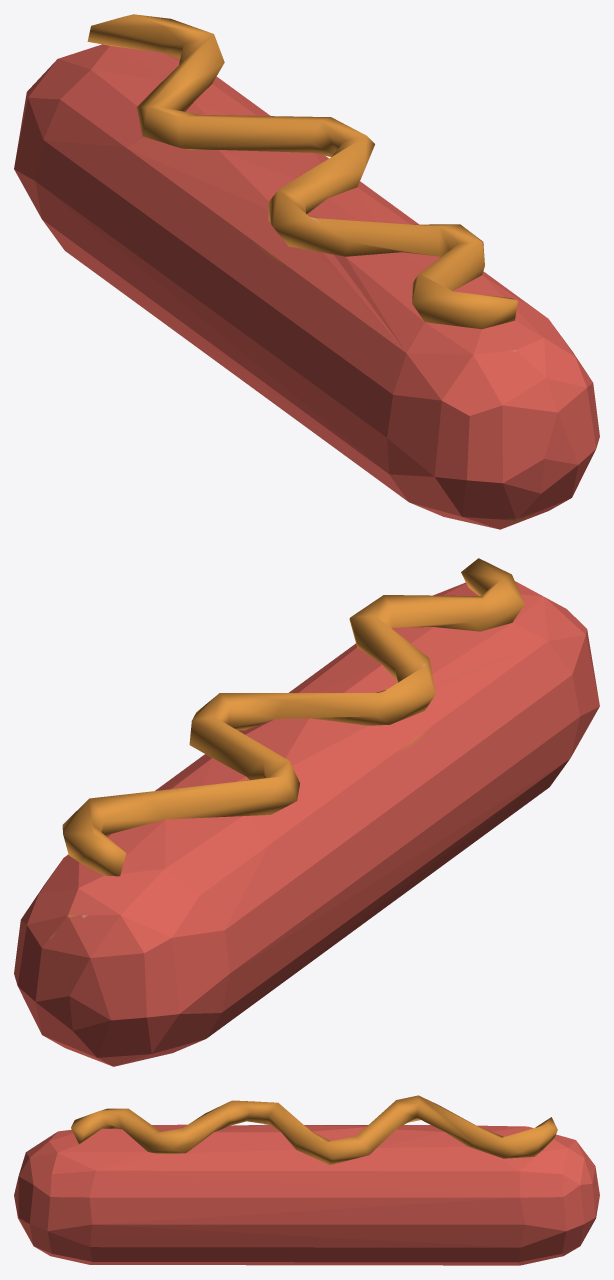
File: 熱狗_塗色完成.fbx
The picture shows the model from 3 angles, top to bottom: view 1: azimuth 30°, elevation 25°; view 2: azimuth 150°, elevation 25°; view 3: azimuth 270°, elevation 25°; orthographic projection. The views are drawn at different scales.
Visible parts, largest first — view 1: Cube.003; view 2: Cube.003; view 3: Cube.003.
Part boxes in pixels (x1,y1,x2,y2): Cube.003: (14, 14, 599, 529); Cube.003: (14, 558, 599, 1066); Cube.003: (14, 1095, 599, 1265).
Bounding box in the file's own units: 22.92 × 25.95 × 96.89.
